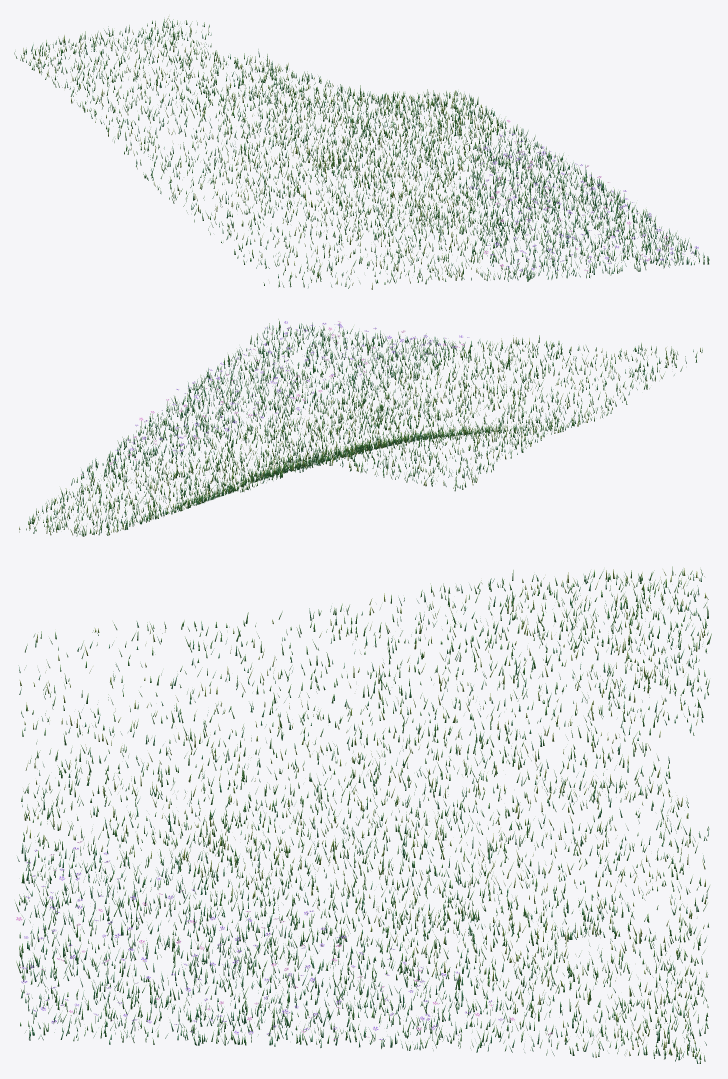
3 renders of one model, top to bottom at view 1: azimuth 30°, elevation 25°; view 2: azimuth 150°, elevation 25°; view 3: azimuth 270°, elevation 25°, orthographic. The views are drawn at different scales.
Visible parts, largest first — view 1: gc_25; view 2: gc_25; view 3: gc_25.
Part boxes in pixels (<box>): gc_25: <box>14,16,709,289</box>; gc_25: <box>19,319,702,536</box>; gc_25: <box>15,566,711,1063</box>.
Bounding box in the file's own units: 18.24 × 6.04 × 18.26.
1 material, 1 textured.
